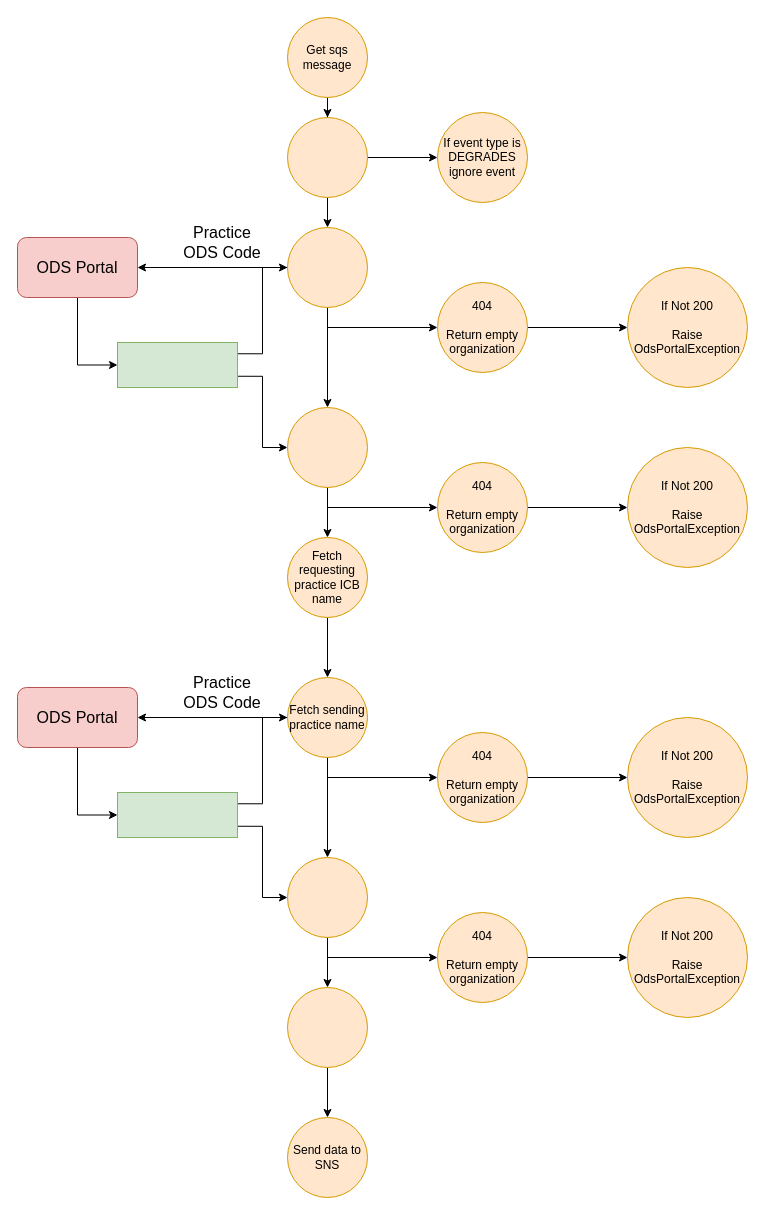
This 765x1215 diagram has some shape labels left out. The centre of each missing label's shape, as x and y in pixels:
"Fetch requesting practice name" goes at pixel 327 267.
"Fetch sending practice ICB name" goes at pixel 327 1027.
"Find requesting practice ICB ODS code" goes at pixel 327 447.
"Find sending practice ICB ODS code" goes at pixel 327 897.
"Load events from msg" goes at pixel 327 157.
"Requesting practice details" goes at pixel 177 365.
"Sending practice details" goes at pixel 177 815.
